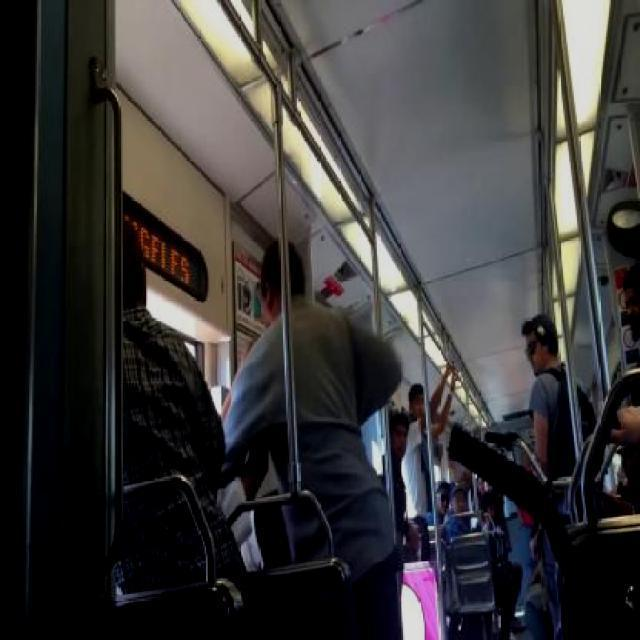fight: (198, 236, 399, 558)
non-fight: (518, 307, 594, 467)
